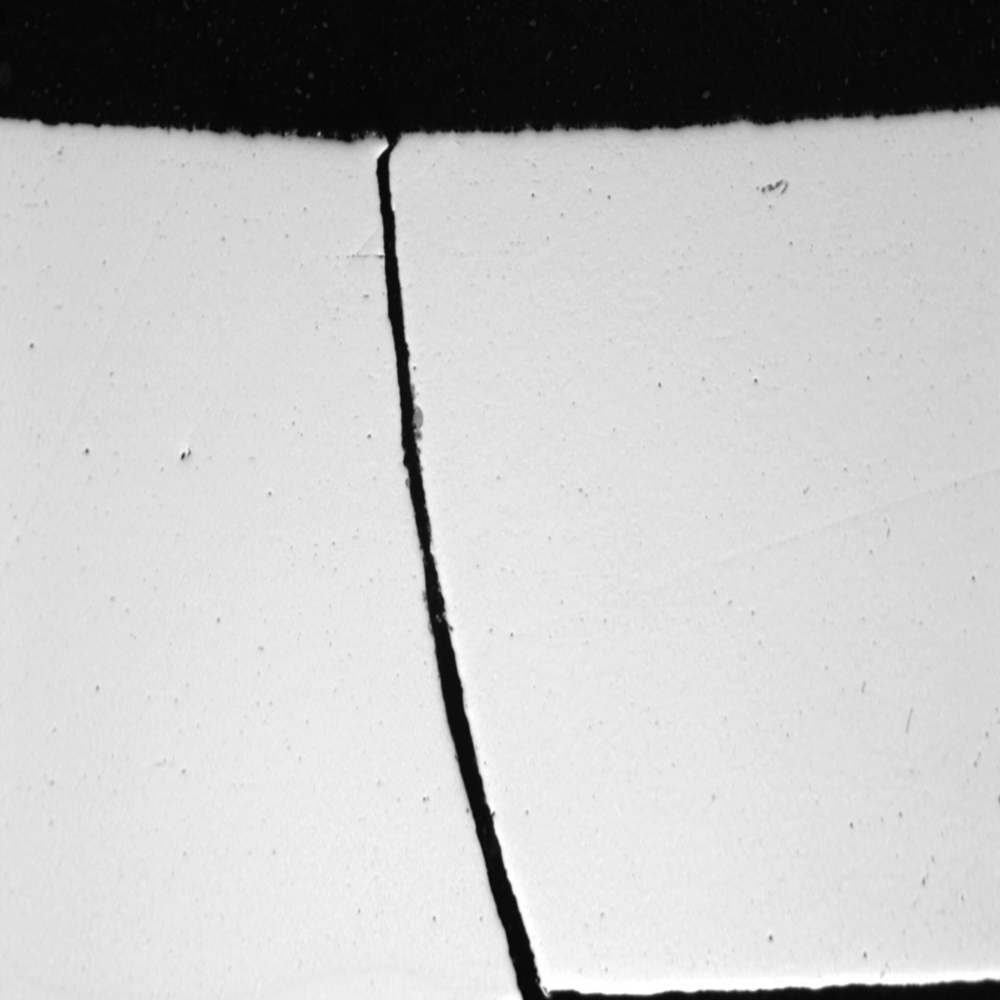crack: (337, 111, 990, 994)
